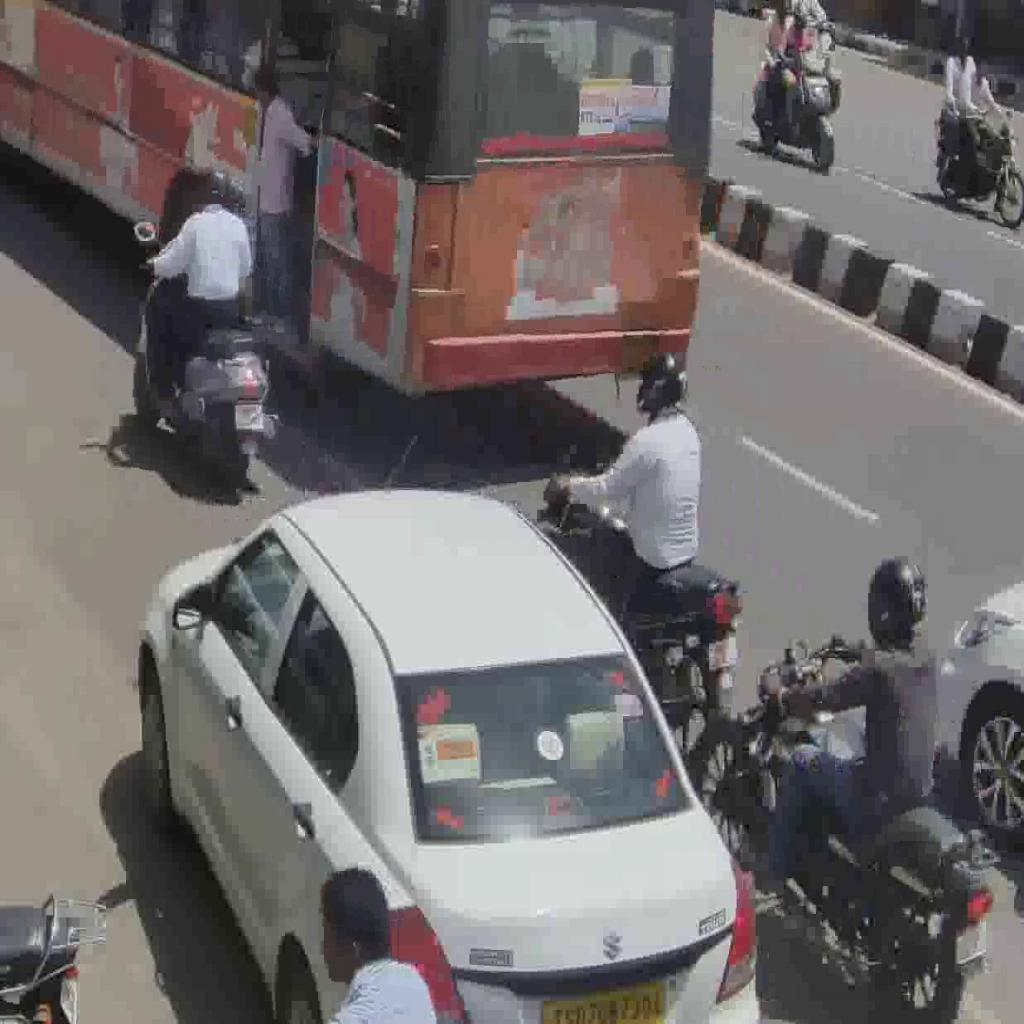helmet: (690, 635, 995, 1020), (533, 444, 742, 752), (126, 218, 281, 478)
